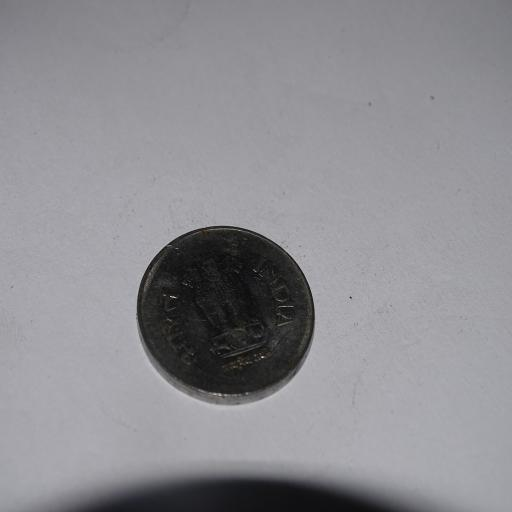rupee1: (132, 222, 314, 408)
